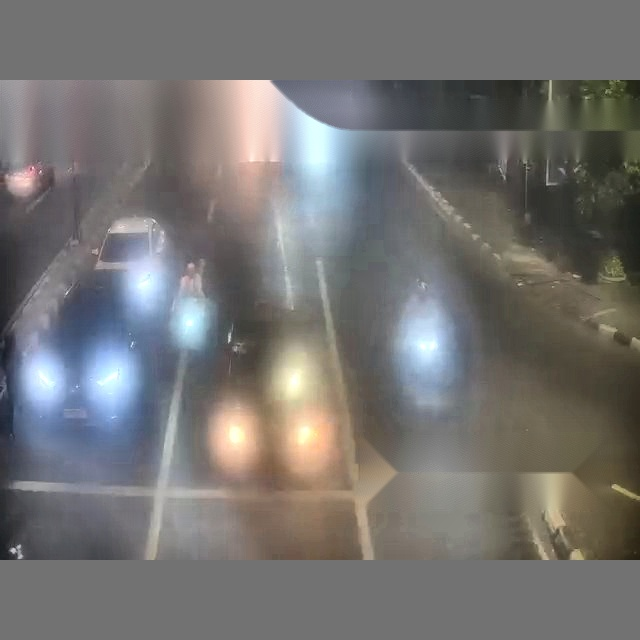Mobil: (95, 216, 168, 321)
